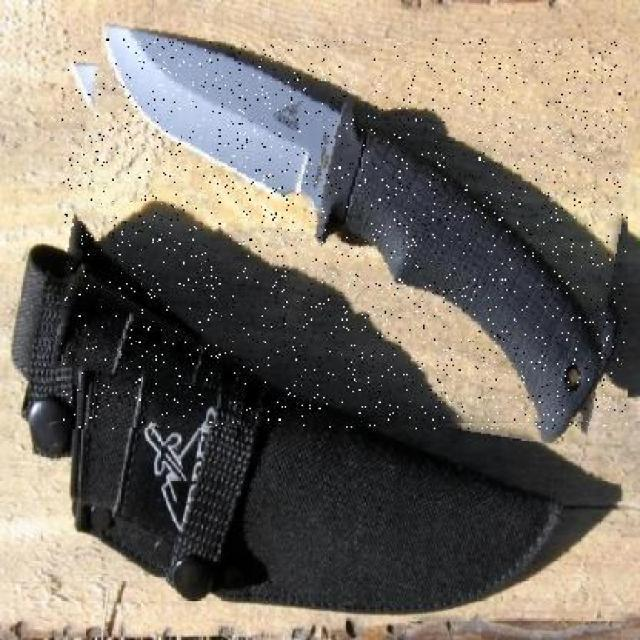knife: (60, 38, 628, 430)
